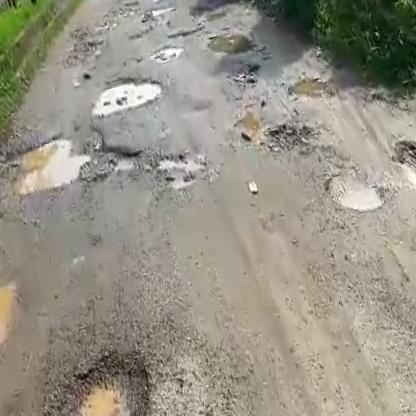pothole: (0, 121, 122, 198), (55, 344, 173, 416), (321, 158, 391, 220), (83, 66, 167, 117), (148, 146, 211, 200), (149, 40, 185, 63)
